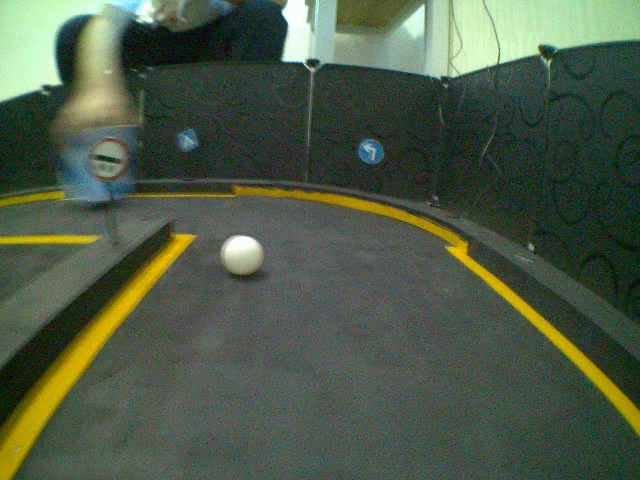ball: (219, 233, 265, 278)
